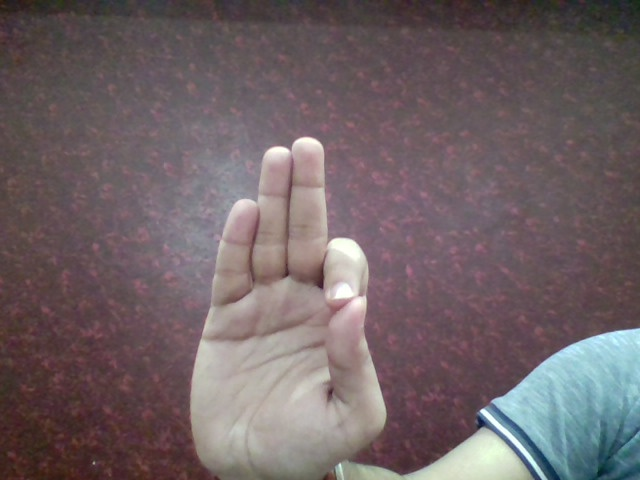f: (181, 131, 398, 480)
